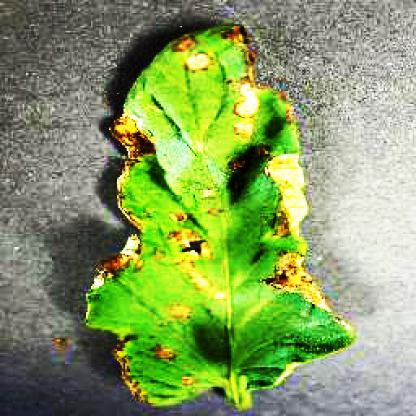BACTERIAL SPOT: (80, 23, 354, 413)
